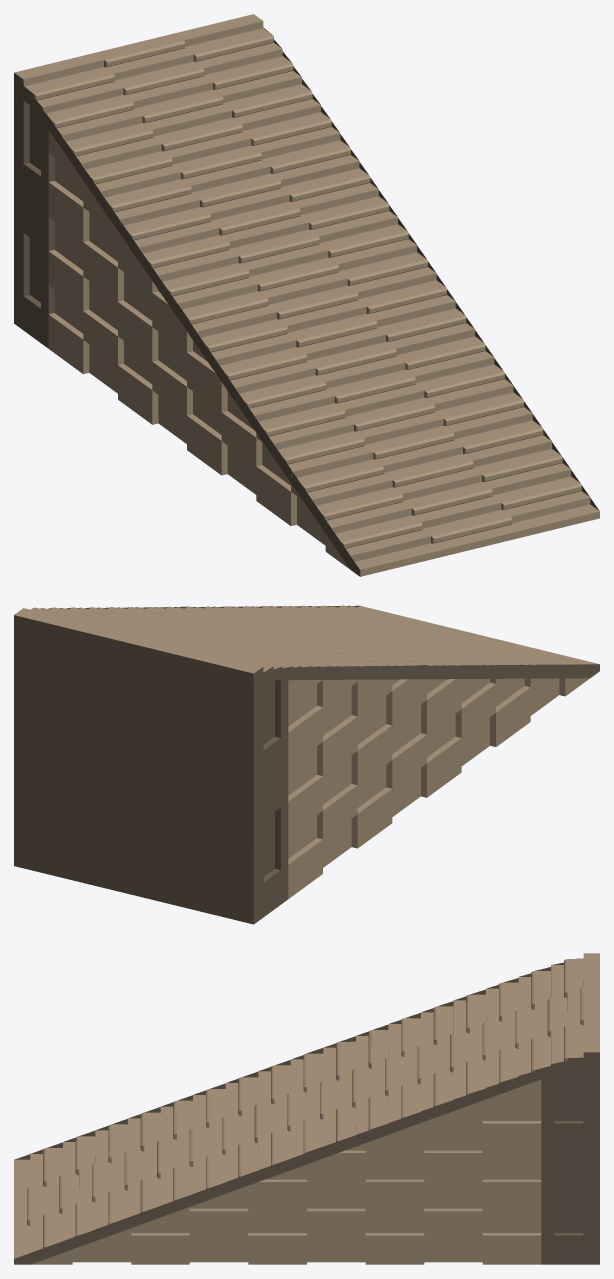
File: Stairs_5.4..fbx
3 renders of one model, top to bottom at view 1: azimuth 30°, elevation 25°; view 2: azimuth 150°, elevation 25°; view 3: azimuth 270°, elevation 25°, orthographic. The views are drawn at different scales.
Parts seen in each view (by area): view 1: stairs; view 2: stairs; view 3: stairs.
Boxes of the visible parts, x1=… form: stairs: x1=14, y1=14, x2=599, y2=576; stairs: x1=14, y1=605, x2=599, y2=924; stairs: x1=14, y1=953, x2=599, y2=1264.
Bounding box in the file's own units: 400 × 400 × 1000.
